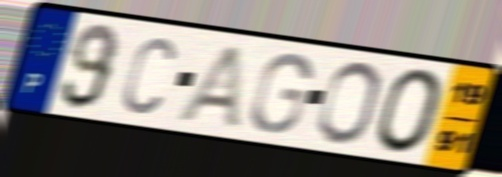9: (58, 20, 121, 113)
A: (173, 44, 245, 132)
C: (120, 33, 178, 117)
G: (247, 51, 315, 136)
O: (374, 66, 446, 157), (314, 59, 384, 147)
